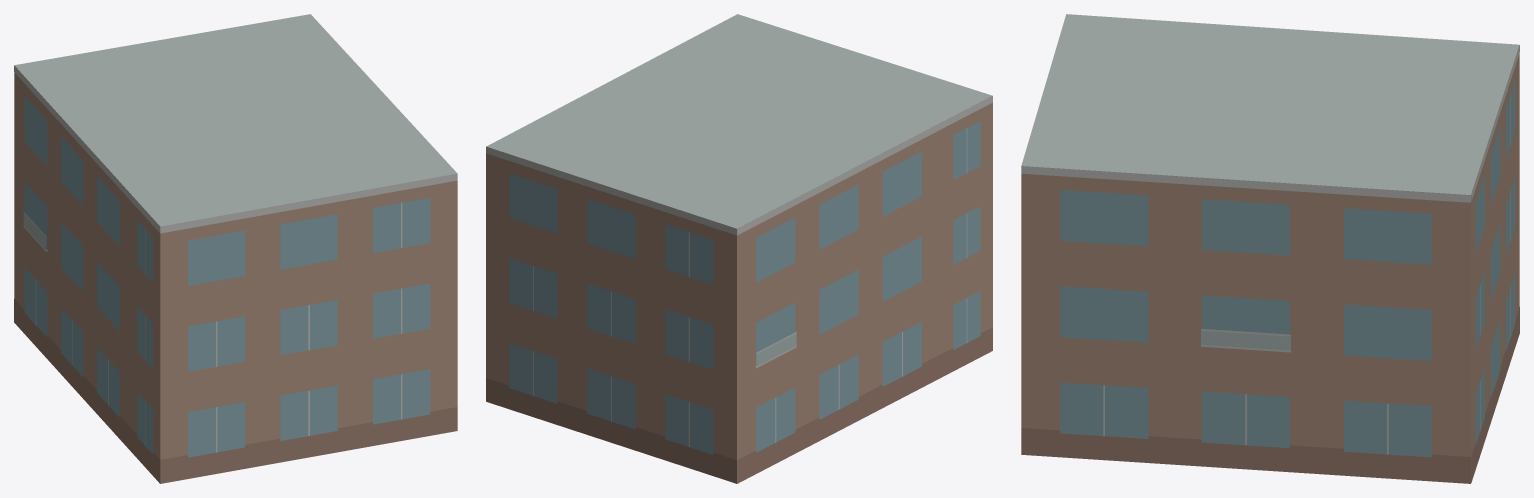
The model's file is survey-upis-32544056.glb.
3 renders of one model, left to right at view 1: azimuth 30°, elevation 25°; view 2: azimuth 150°, elevation 25°; view 3: azimuth 270°, elevation 25°, orthographic. The views are drawn at different scales.
Parts seen in each view (by area): view 1: survey-upis-32544056.tmp; view 2: survey-upis-32544056.tmp; view 3: survey-upis-32544056.tmp.
Part boxes in pixels (box(x1,y1,x2,y2)): survey-upis-32544056.tmp: box(14, 14, 457, 483); survey-upis-32544056.tmp: box(486, 14, 992, 483); survey-upis-32544056.tmp: box(1021, 14, 1519, 483).
Size of the model in its own units: 12.32 by 9.15 by 14.33.
